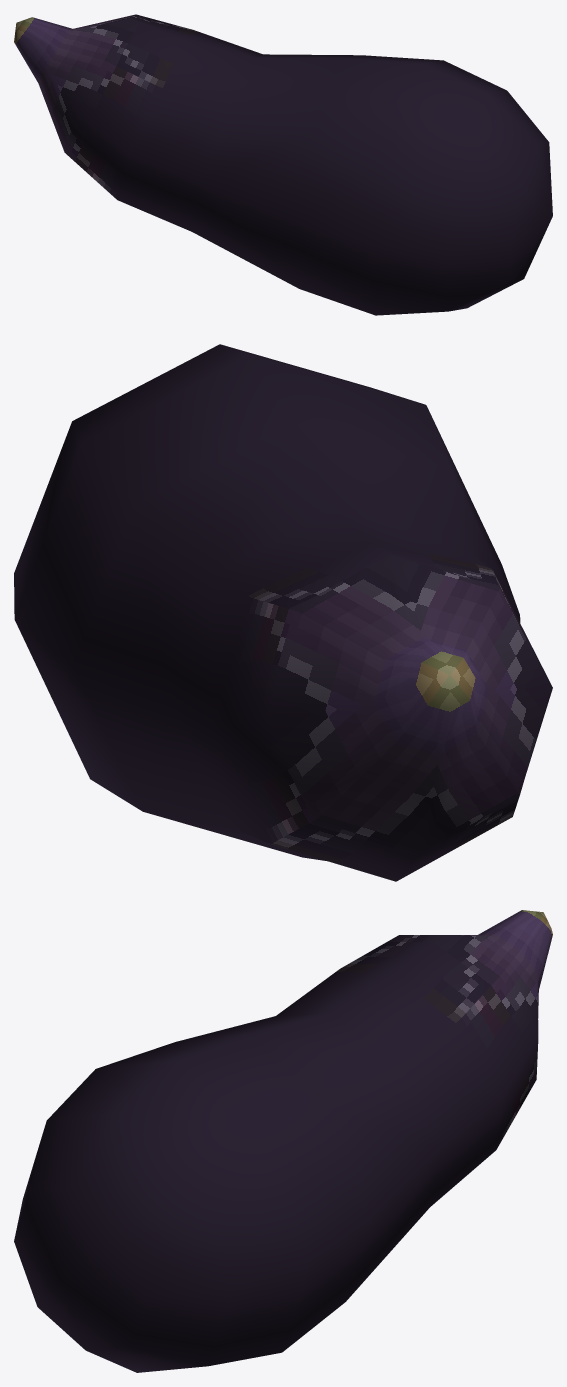
Rendered from eggplant.glb.
3 renders of one model, top to bottom at view 1: azimuth 30°, elevation 25°; view 2: azimuth 150°, elevation 25°; view 3: azimuth 270°, elevation 25°, orthographic. The views are drawn at different scales.
Parts seen in each view (by area): view 1: Mdl_0_Mtl_df_m; view 2: Mdl_0_Mtl_df_m; view 3: Mdl_0_Mtl_df_m.
Part boxes in pixels (box(x1,y1,x2,y2)): Mdl_0_Mtl_df_m: box(14, 14, 552, 315); Mdl_0_Mtl_df_m: box(14, 344, 552, 881); Mdl_0_Mtl_df_m: box(14, 910, 552, 1372).
Size of the model in its own units: 6.01 by 3.98 by 6.01.
Materials: 1 (1 with a texture image).
